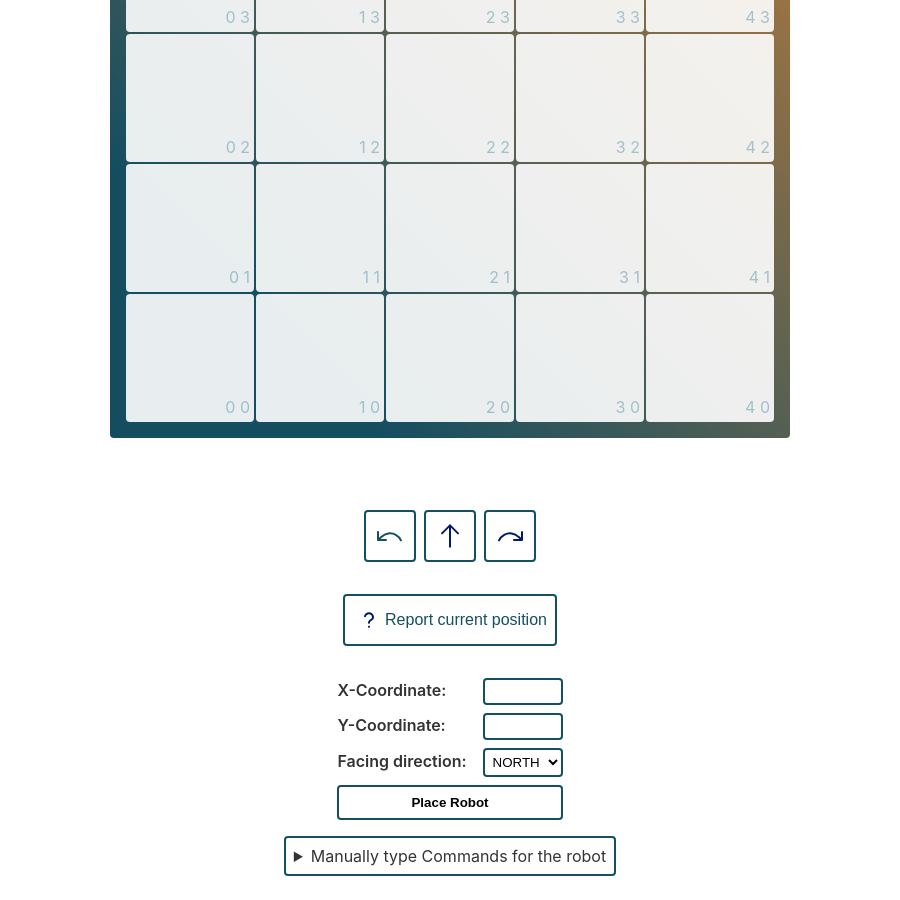
Test: Index page e2e tests › using controls › placed › rotates the robot in right direction
(page scrolled)
Type "0" into the number field with test id "robotplaceform-x" at (523, 692), box [483,678,563,705]
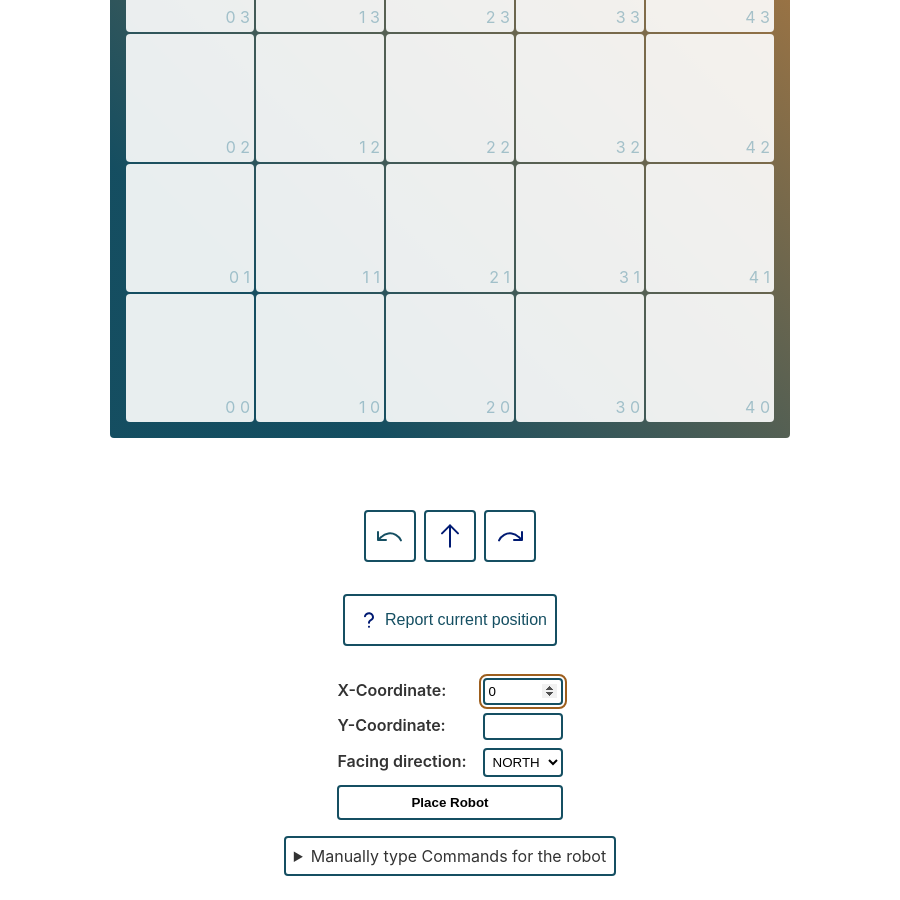
Type "1" into the number field with test id "robotplaceform-y" at (523, 727), box [483,713,563,740]
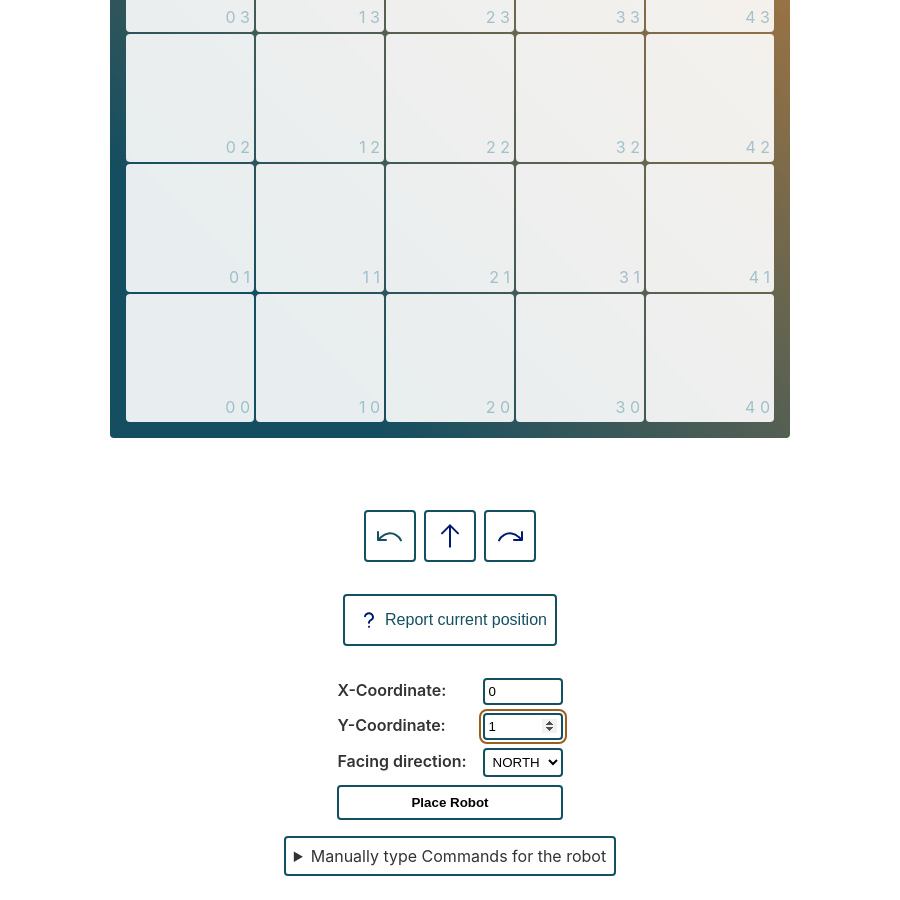
Select "NORTH" in the dropdown with test id "robotplaceform-facing" at (523, 763), box [483,748,563,777]
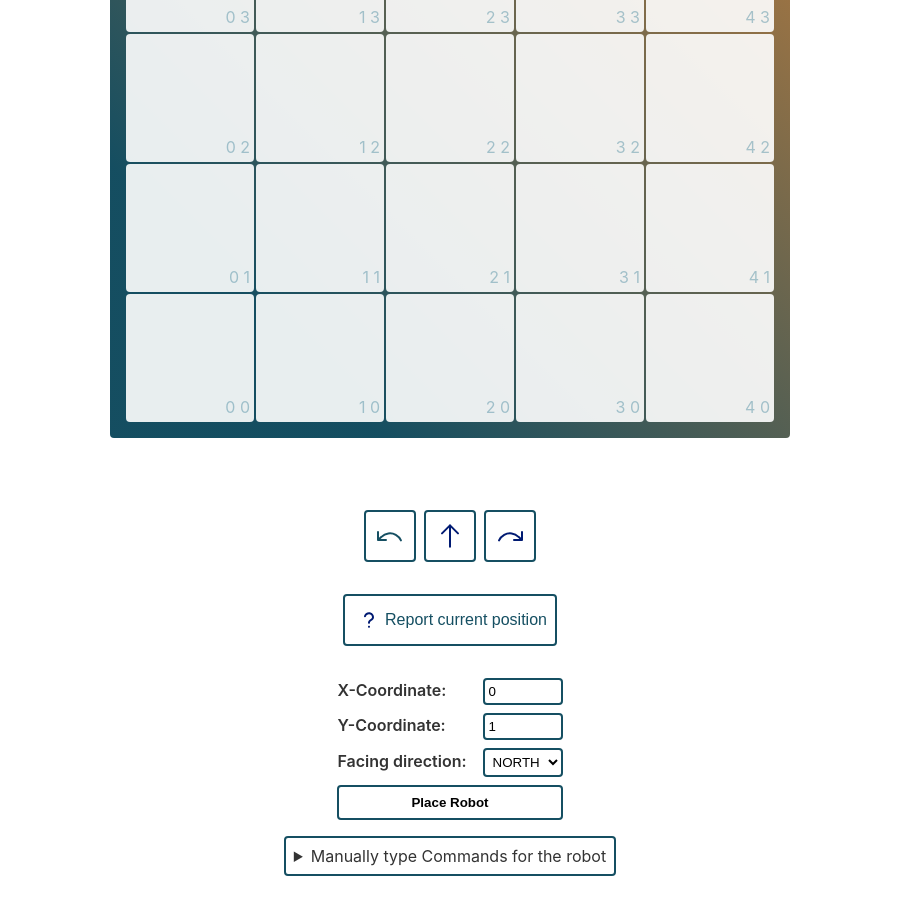
Click the button with test id "robotplaceform-submit" at (451, 803), box [338,785,563,820]
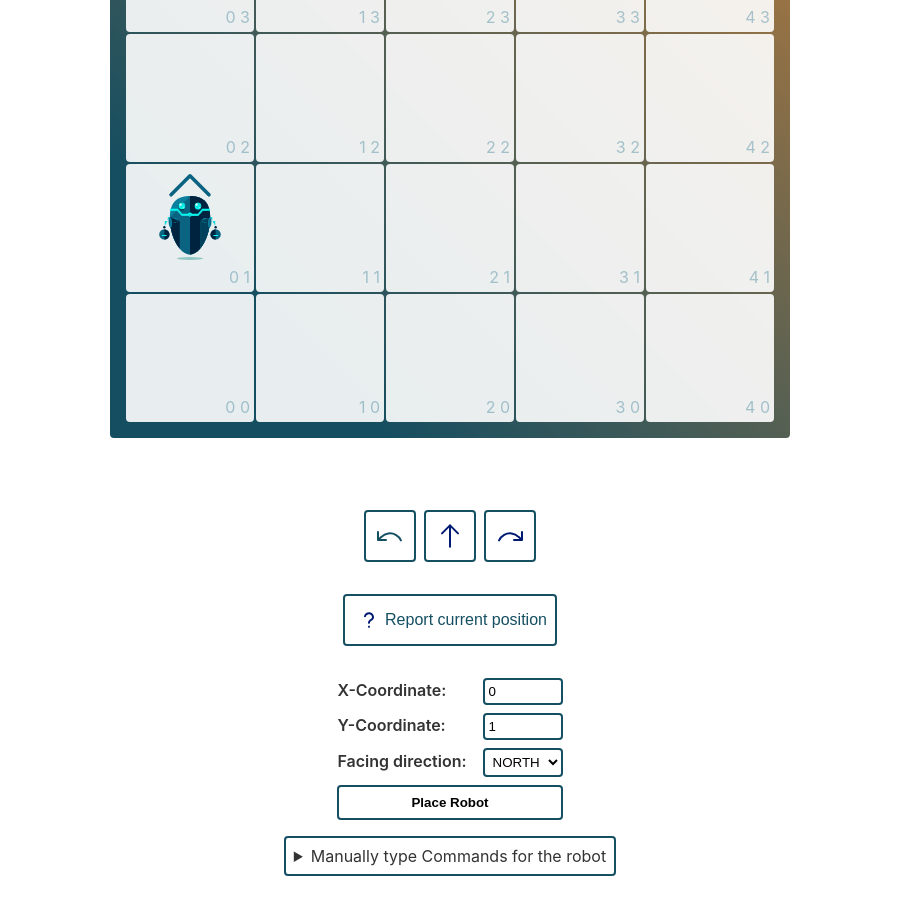
Result: the icon with class "robot__direction-indicator--NORTH" is shown at [126,164,254,292]
Click the button with test id "robotcontrol-button-turnright" at (510, 536), box [484,510,536,562]
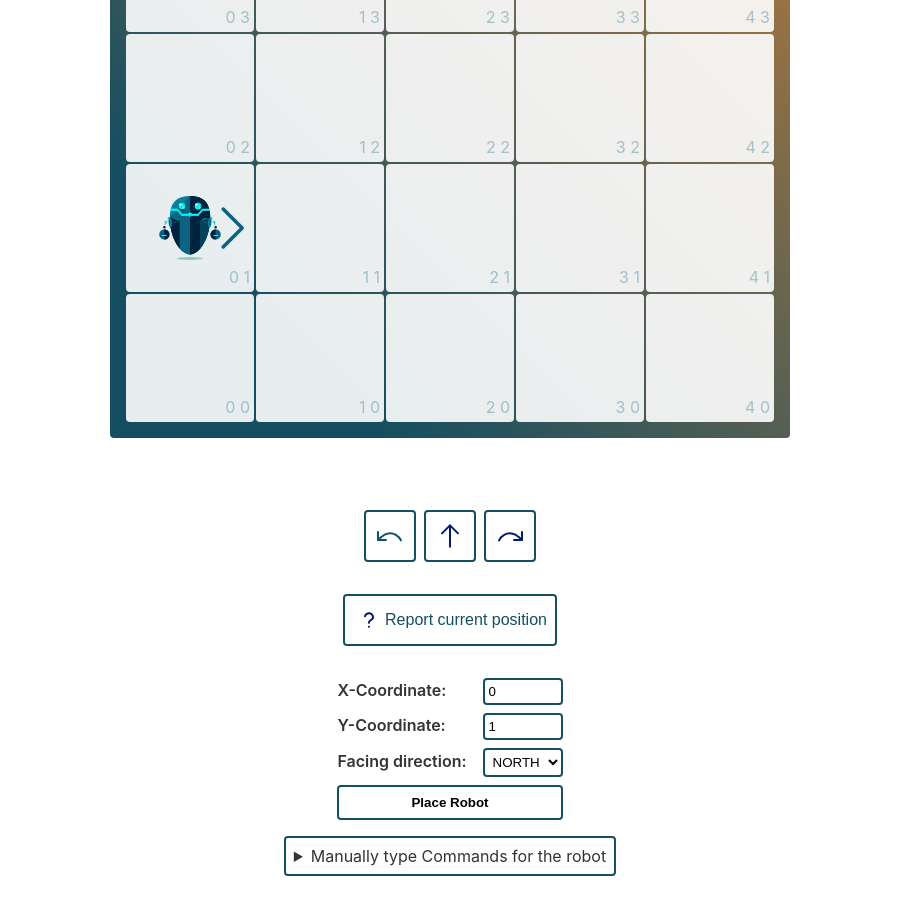
Result: the icon with class "robot__direction-indicator--EAST" is shown at [126,164,254,292]
